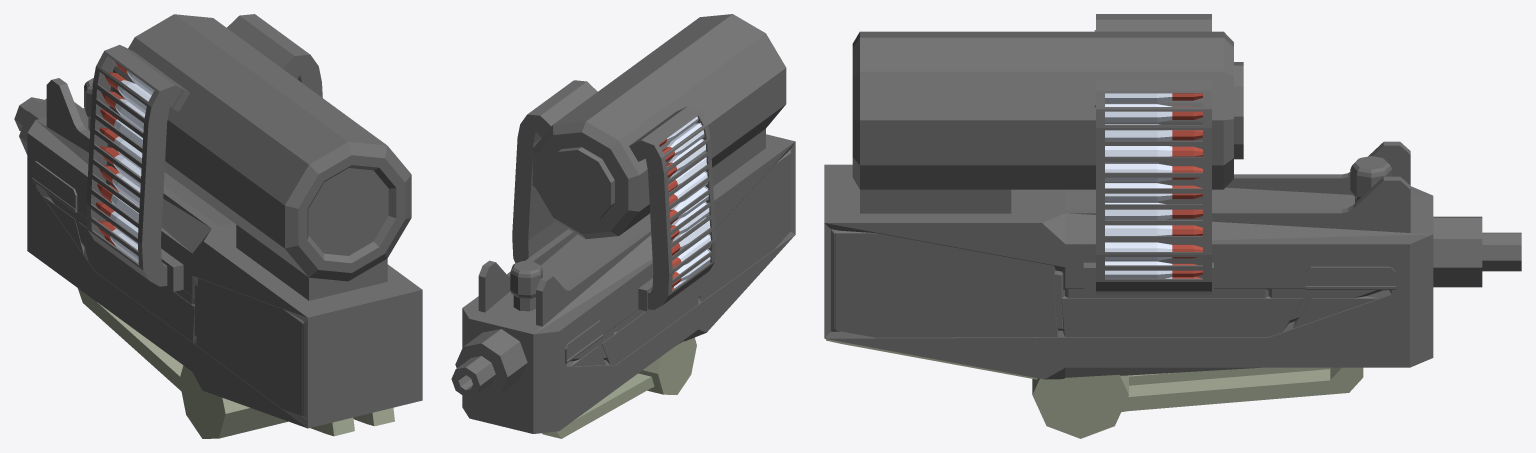
The model's file is AutocannonsTest1.fbx.
3 renders of one model, left to right at view 1: azimuth 30°, elevation 25°; view 2: azimuth 150°, elevation 25°; view 3: azimuth 270°, elevation 25°, orthographic. The views are drawn at different scales.
Parts seen in each view (by area): view 1: AutocannonL, AutocannonR; view 2: AutocannonL, AutocannonR; view 3: AutocannonL, AutocannonR.
Boxes of the visible parts, x1,y1,x2,y2 form: AutocannonL: (14, 14, 422, 438); AutocannonR: (14, 45, 422, 438); AutocannonL: (451, 14, 795, 433); AutocannonR: (454, 105, 790, 438); AutocannonL: (824, 31, 1521, 411); AutocannonR: (824, 14, 1521, 438).
Size of the model in its own units: 120 by 225 by 373.
